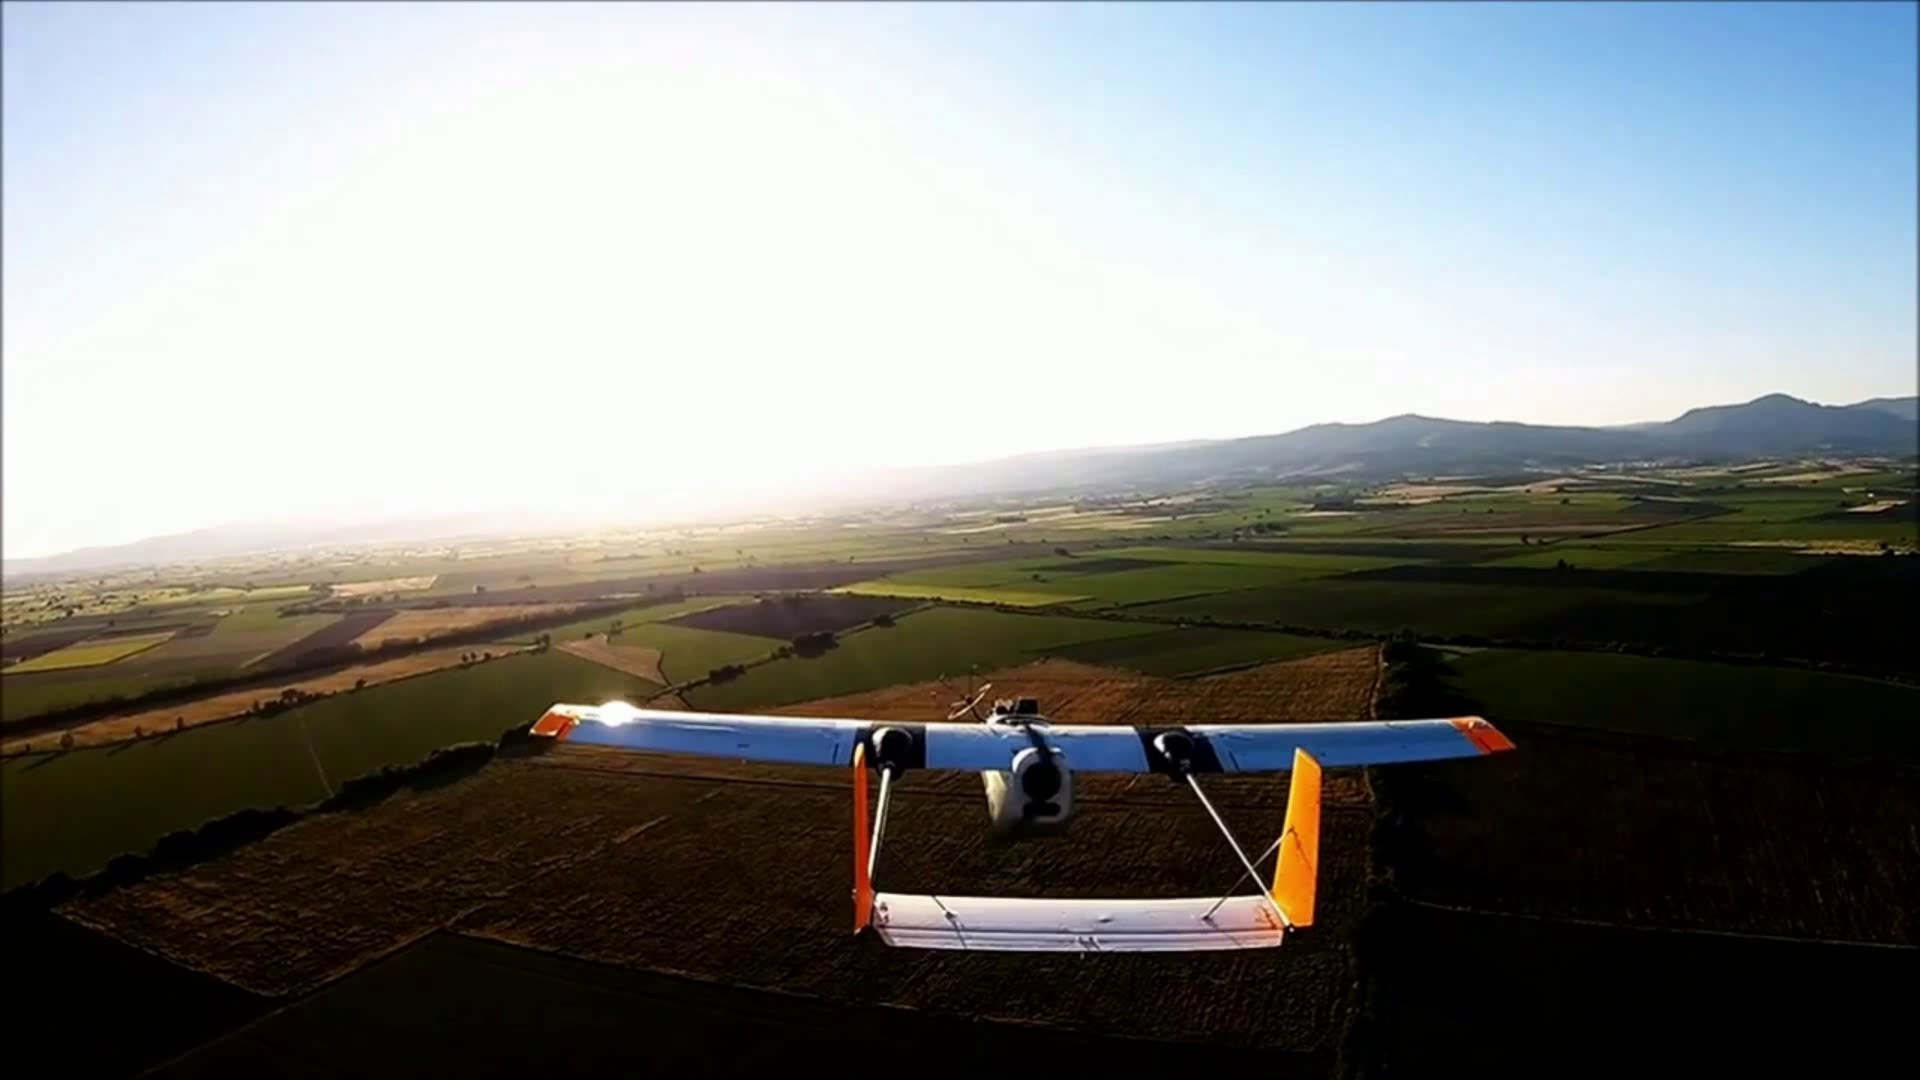airplane: (509, 708, 1516, 956)
